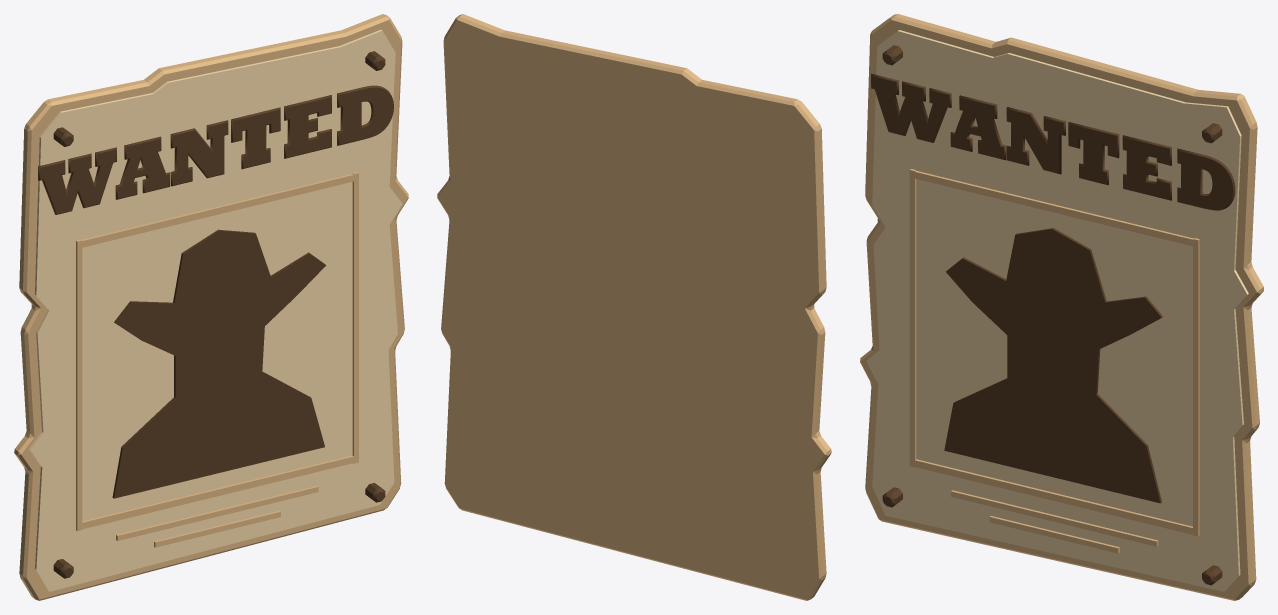
File: Poster.fbx
The picture shows the model from 3 angles, left to right: view 1: azimuth 30°, elevation 25°; view 2: azimuth 150°, elevation 25°; view 3: azimuth 330°, elevation 25°; orthographic projection. The views are drawn at different scales.
Parts seen in each view (by area): view 1: GEO-Wanted_Poster-wanted_heading; view 2: GEO-Wanted_Poster-wanted_heading; view 3: GEO-Wanted_Poster-wanted_heading.
Part boxes in pixels (x1=…): GEO-Wanted_Poster-wanted_heading: x1=14, y1=14, x2=408, y2=600; GEO-Wanted_Poster-wanted_heading: x1=437, y1=14, x2=831, y2=600; GEO-Wanted_Poster-wanted_heading: x1=860, y1=14, x2=1263, y2=600.
Size of the model in its own units: 31.08 by 38 by 2.35.
